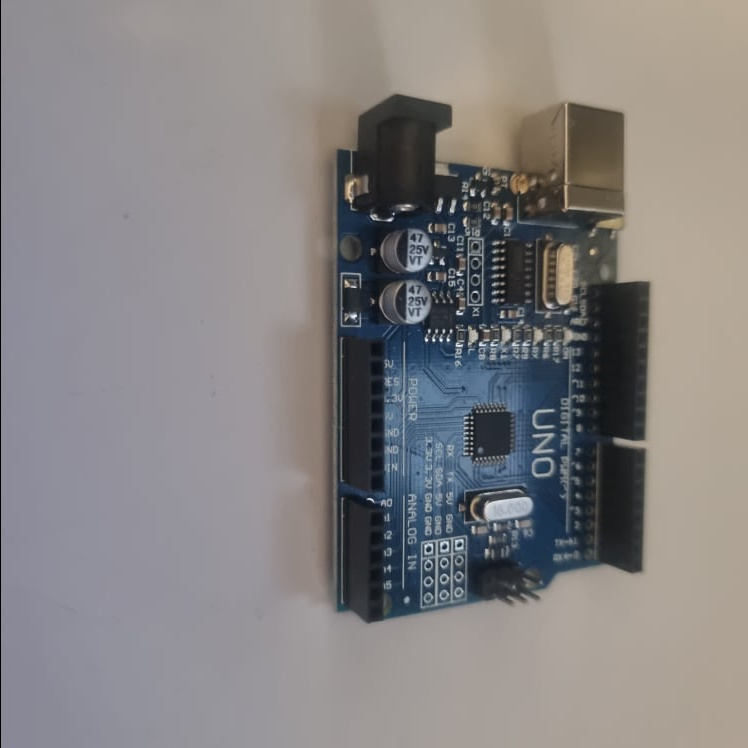UNO R3: (331, 100, 652, 627)
